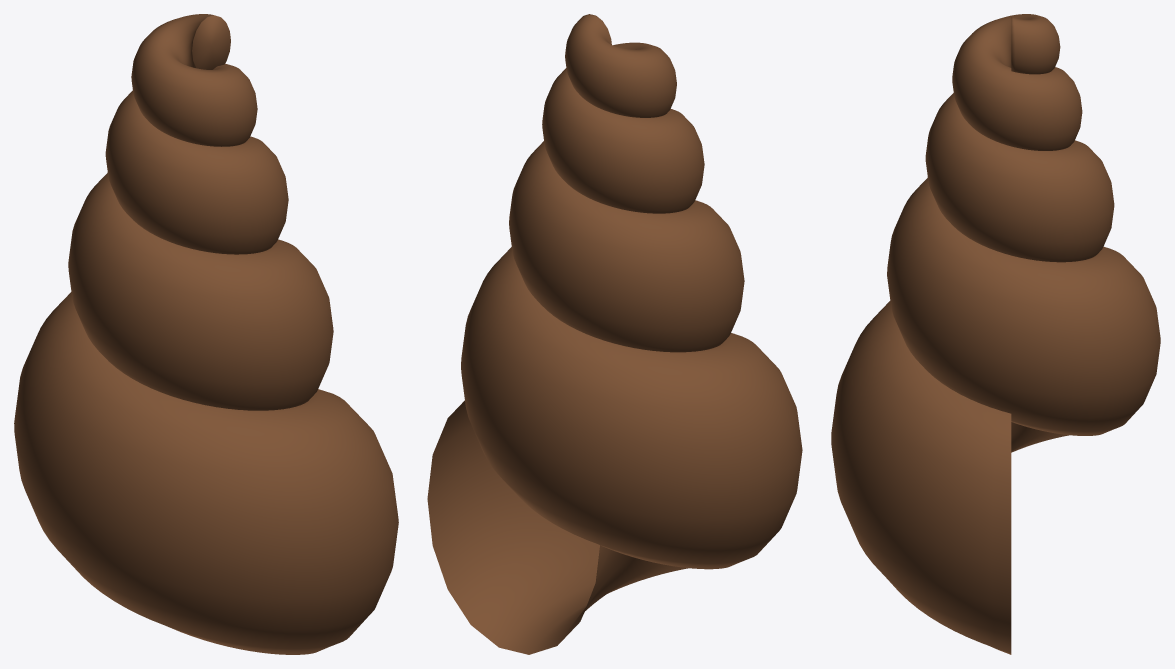
The model's file is snail_shell.glb.
3 views of the same model, side by side, from view 1: azimuth 30°, elevation 25°; view 2: azimuth 150°, elevation 25°; view 3: azimuth 270°, elevation 25° (orthographic). The views are drawn at different scales.
Parts seen in each view (by area): view 1: SnailShell_Shell_LOD0; view 2: SnailShell_Shell_LOD0; view 3: SnailShell_Shell_LOD0.
Part boxes in pixels (left/top/right/bottom): SnailShell_Shell_LOD0: left=14, top=14, right=398, bottom=654; SnailShell_Shell_LOD0: left=427, top=14, right=802, bottom=654; SnailShell_Shell_LOD0: left=831, top=14, right=1160, bottom=654.
Size of what is drawn, in the model's own units: 0.0165 by 0.03 by 0.0151.
